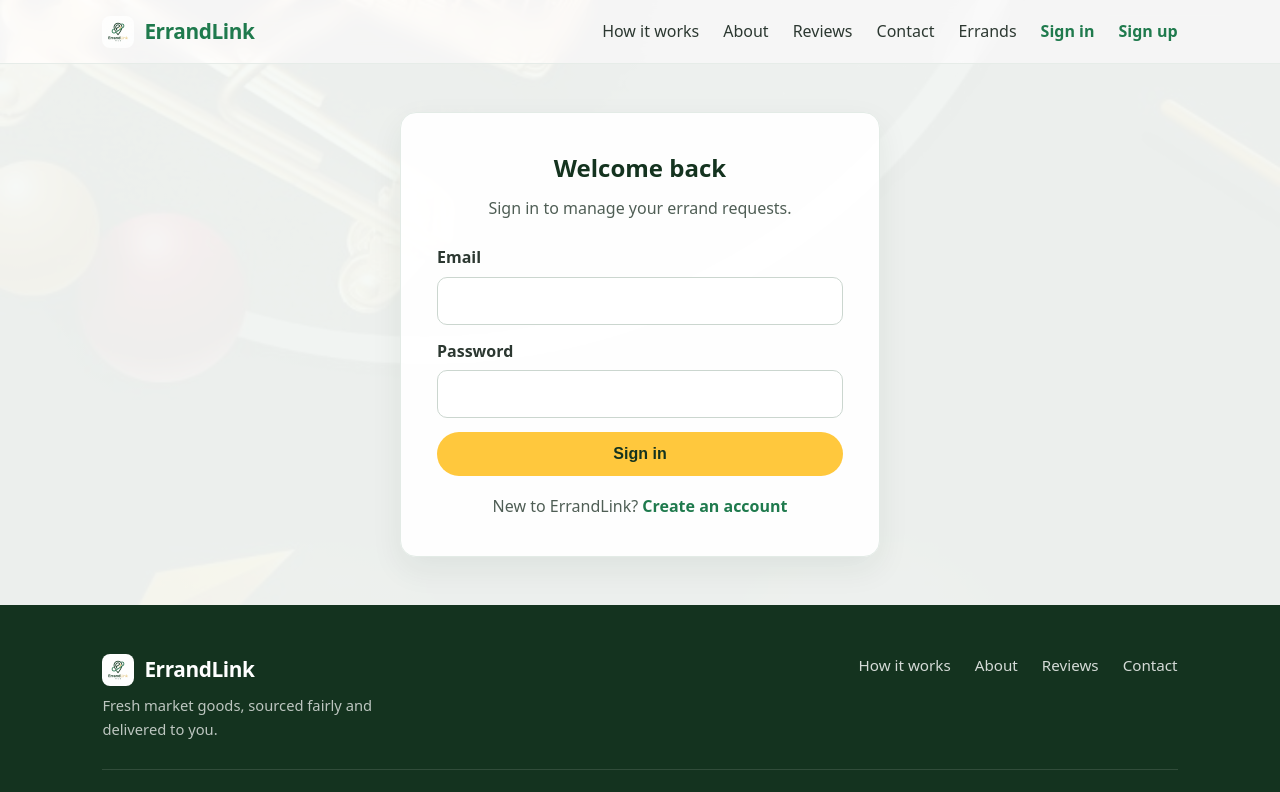
it: authentication › signs in successfully
The image size is (1280, 792).
Type "ada@example.com" into the field labelled "Email".
click(640, 301); type("ada@example.com")  # box [437, 277, 843, 325]
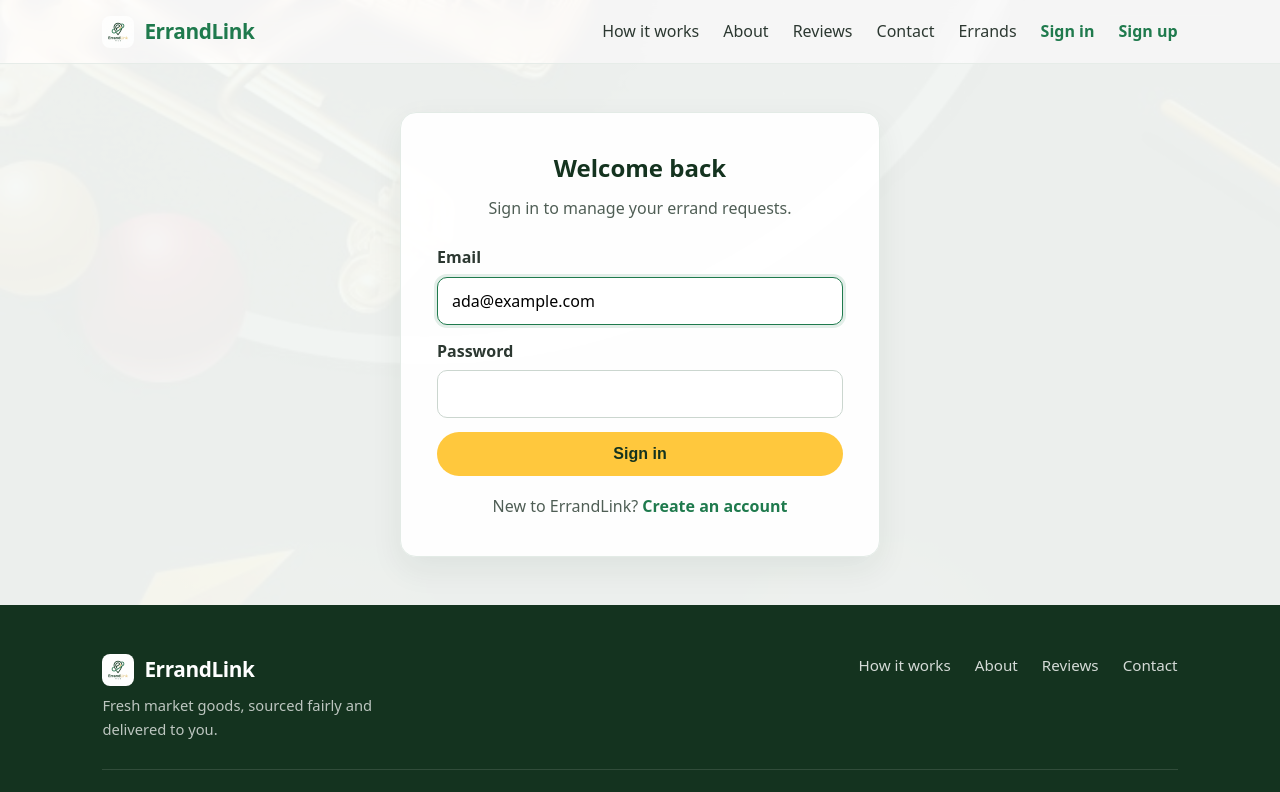
Type "secret1" into the password field labelled "Password".
click(640, 394); type("secret1")  # box [437, 370, 843, 418]
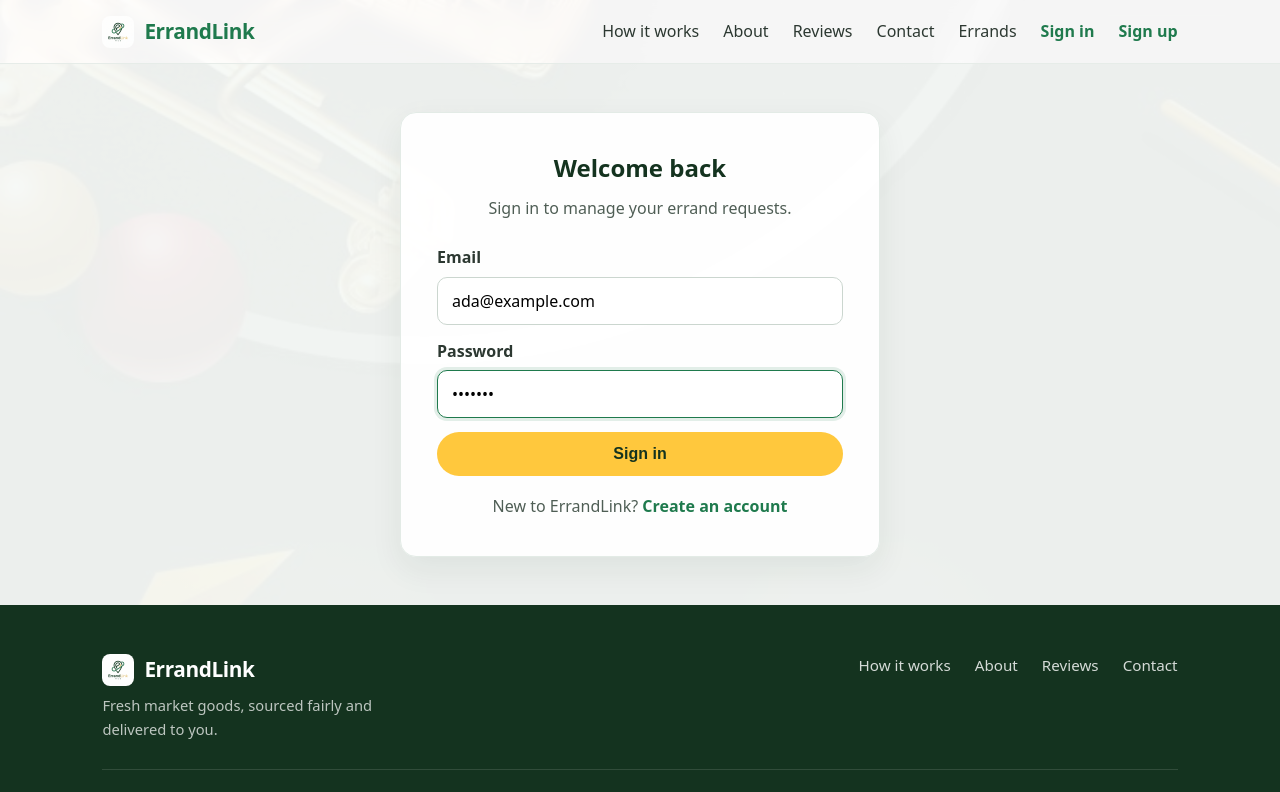
Click the button "Sign in".
click(640, 454)  # box [437, 432, 843, 476]
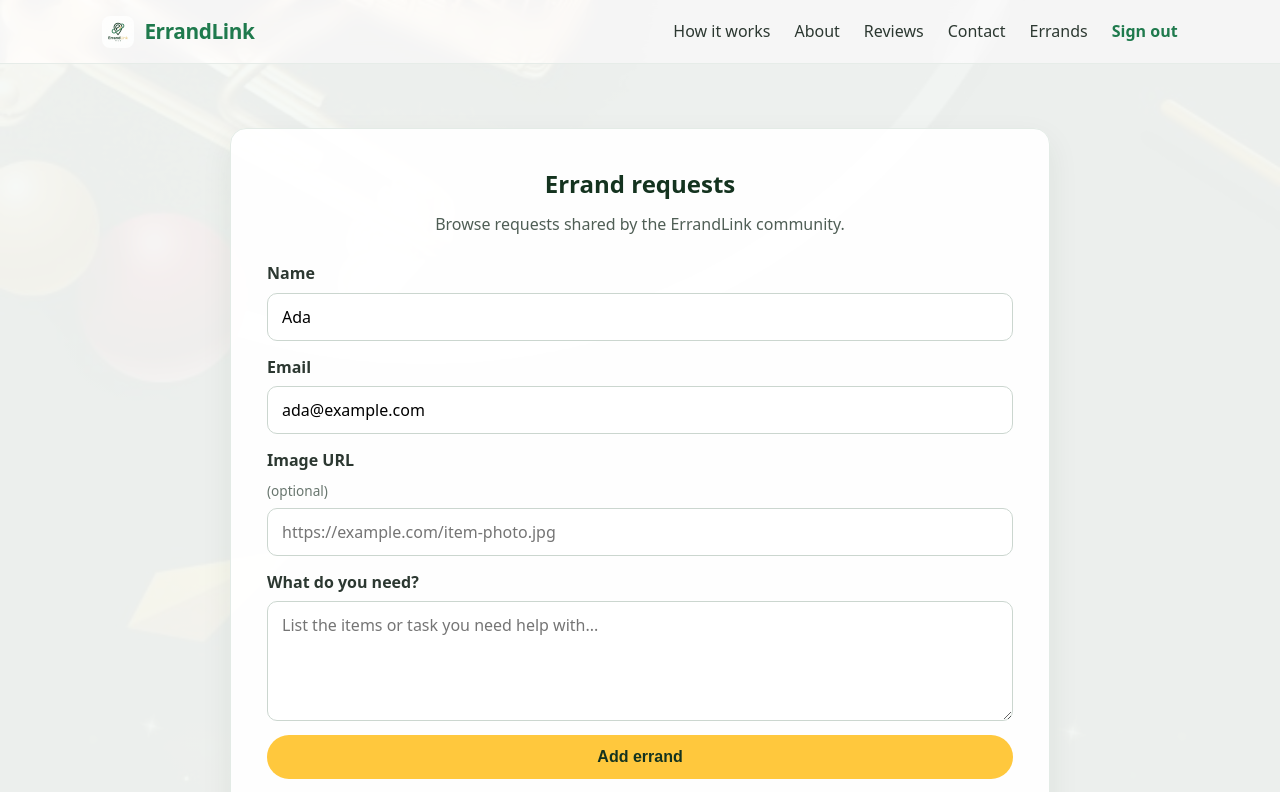
Now the heading "Errand requests" is shown, box [545, 167, 735, 200]
